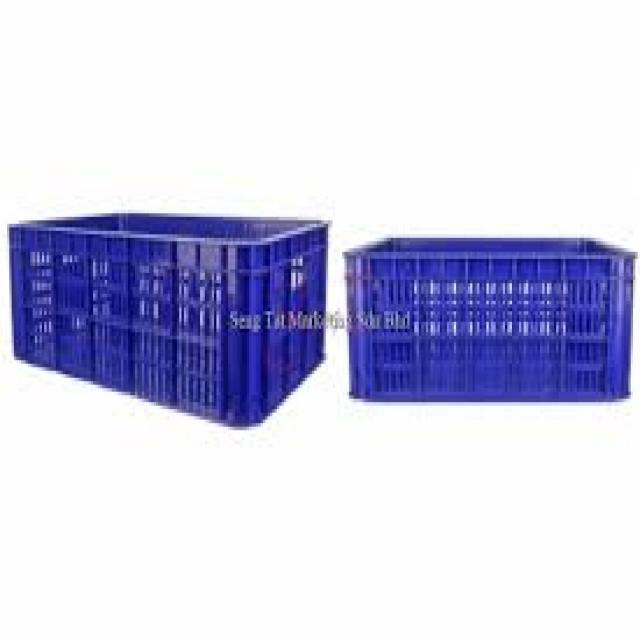basket: (0, 208, 332, 428), (347, 238, 634, 400)
